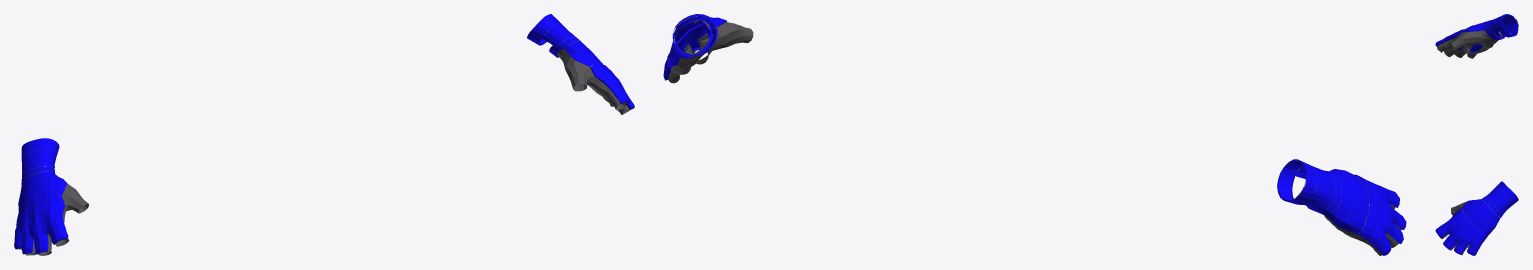
Rendered from mhw_learning_mma_fighting_gloves.glb.
The picture shows the model from 3 angles, left to right: view 1: azimuth 30°, elevation 25°; view 2: azimuth 150°, elevation 25°; view 3: azimuth 270°, elevation 25°; orthographic projection. The views are drawn at different scales.
Visible parts, largest first — view 1: mhw_learning_mma_fighting_gloves; view 2: mhw_learning_mma_fighting_gloves; view 3: mhw_learning_mma_fighting_gloves.
Boxes of the visible parts, x1=… form: mhw_learning_mma_fighting_gloves: x1=14, y1=14, x2=634, y2=255; mhw_learning_mma_fighting_gloves: x1=663, y1=14, x2=1406, y2=255; mhw_learning_mma_fighting_gloves: x1=1435, y1=14, x2=1518, y2=255.
Size of the model in its own units: 1.21 by 0.1608 by 0.2094.
Materials: 1 (1 with a texture image).
